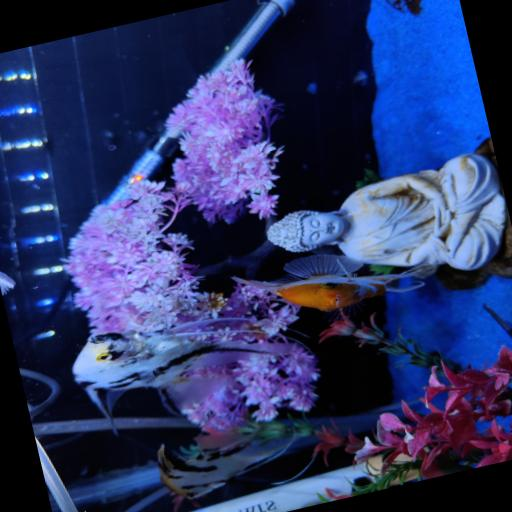Fish: (73, 318, 294, 425), (232, 255, 424, 311), (158, 434, 292, 499), (0, 271, 15, 294)
